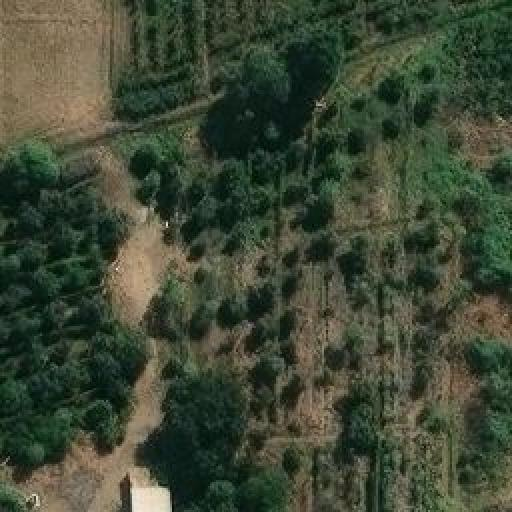manzanas: (127, 461, 175, 510)
